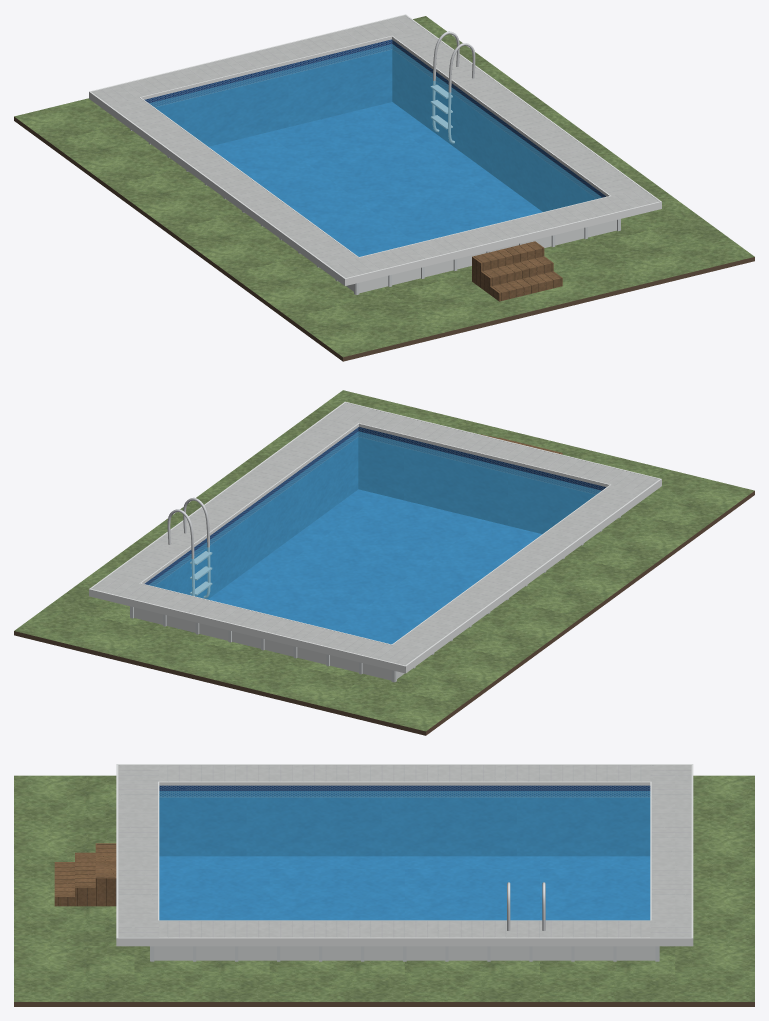
The model's file is kayak-pool-16x24-white-walk-rec-nofence.a200833009.glb.
The picture shows the model from 3 angles, top to bottom: view 1: azimuth 30°, elevation 25°; view 2: azimuth 150°, elevation 25°; view 3: azimuth 270°, elevation 25°; orthographic projection. The views are drawn at different scales.
Parts seen in each view (by area): view 1: water, ground, liner_floor, liner_wall, deck, fascia, steps, soil, wall, steel; view 2: water, ground, liner_floor, liner_wall, deck, fascia, soil, wall, steel; view 3: water, ground, liner_wall, liner_floor, deck, fascia, wall, soil, steps, upright.
Part boxes in pixels (left/top/right/bottom): water: left=149, top=44, right=601, bottom=256; ground: left=14, top=16, right=754, bottom=357; liner_floor: left=209, top=102, right=542, bottom=256; liner_wall: left=144, top=39, right=605, bottom=211; deck: left=91, top=15, right=659, bottom=277; fascia: left=89, top=14, right=661, bottom=285; steps: left=472, top=241, right=562, bottom=301; soil: left=14, top=117, right=754, bottom=361; wall: left=346, top=220, right=616, bottom=293; steel: left=430, top=31, right=475, bottom=143; water: left=149, top=431, right=600, bottom=644; ground: left=14, top=390, right=754, bottom=731; liner_floor: left=208, top=489, right=541, bottom=644; liner_wall: left=145, top=427, right=606, bottom=599; deck: left=91, top=403, right=659, bottom=668; fascia: left=89, top=401, right=661, bottom=673; soil: left=14, top=491, right=754, bottom=735; wall: left=134, top=607, right=404, bottom=680; steel: left=167, top=497, right=212, bottom=598; water: left=159, top=791, right=650, bottom=920; ground: left=14, top=775, right=754, bottom=1001; liner_wall: left=159, top=785, right=650, bottom=856; liner_floor: left=159, top=856, right=650, bottom=920; deck: left=118, top=765, right=691, bottom=937; fascia: left=116, top=764, right=693, bottom=946; wall: left=154, top=946, right=655, bottom=960; soil: left=14, top=1002, right=754, bottom=1006; steps: left=54, top=843, right=116, bottom=906; upright: left=150, top=946, right=659, bottom=961.
Size of the model in its own units: 7.92 by 1.9 by 10.97.
12 materials, 5 textured.
